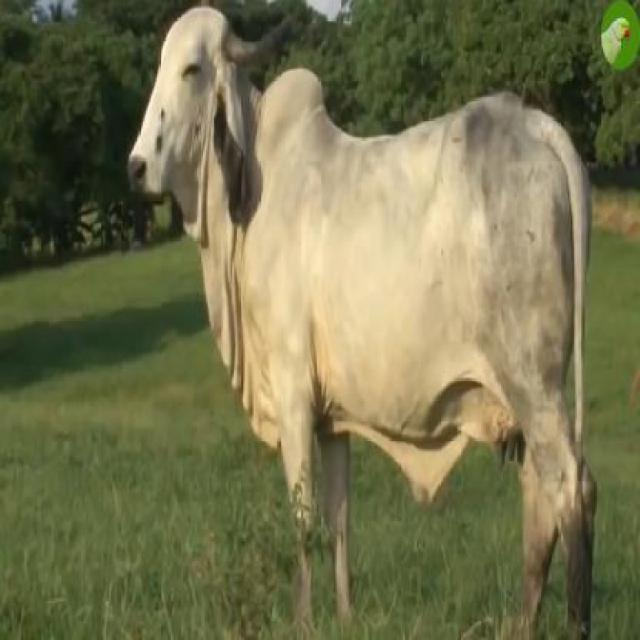Cow: (128, 0, 594, 638)
